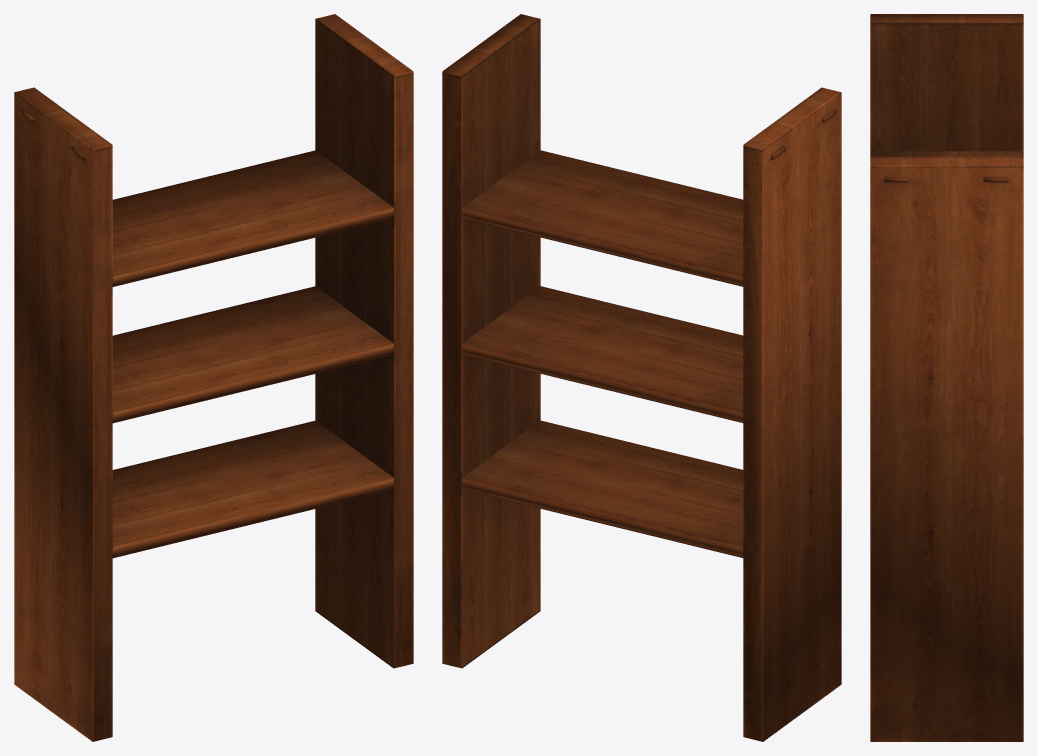
File: shelf_scanroom.dae
3 renders of one model, left to right at view 1: azimuth 30°, elevation 25°; view 2: azimuth 150°, elevation 25°; view 3: azimuth 270°, elevation 25°, orthographic. The views are drawn at different scales.
Visible parts, largest first — view 1: shelf_scanroom; view 2: shelf_scanroom; view 3: shelf_scanroom.
Boxes of the visible parts, bbox=[...] form: shelf_scanroom: bbox=[14, 14, 413, 741]; shelf_scanroom: bbox=[442, 14, 841, 741]; shelf_scanroom: bbox=[870, 14, 1023, 741].
Bounding box in the file's own units: 1.67 × 2.9 × 0.6998.
